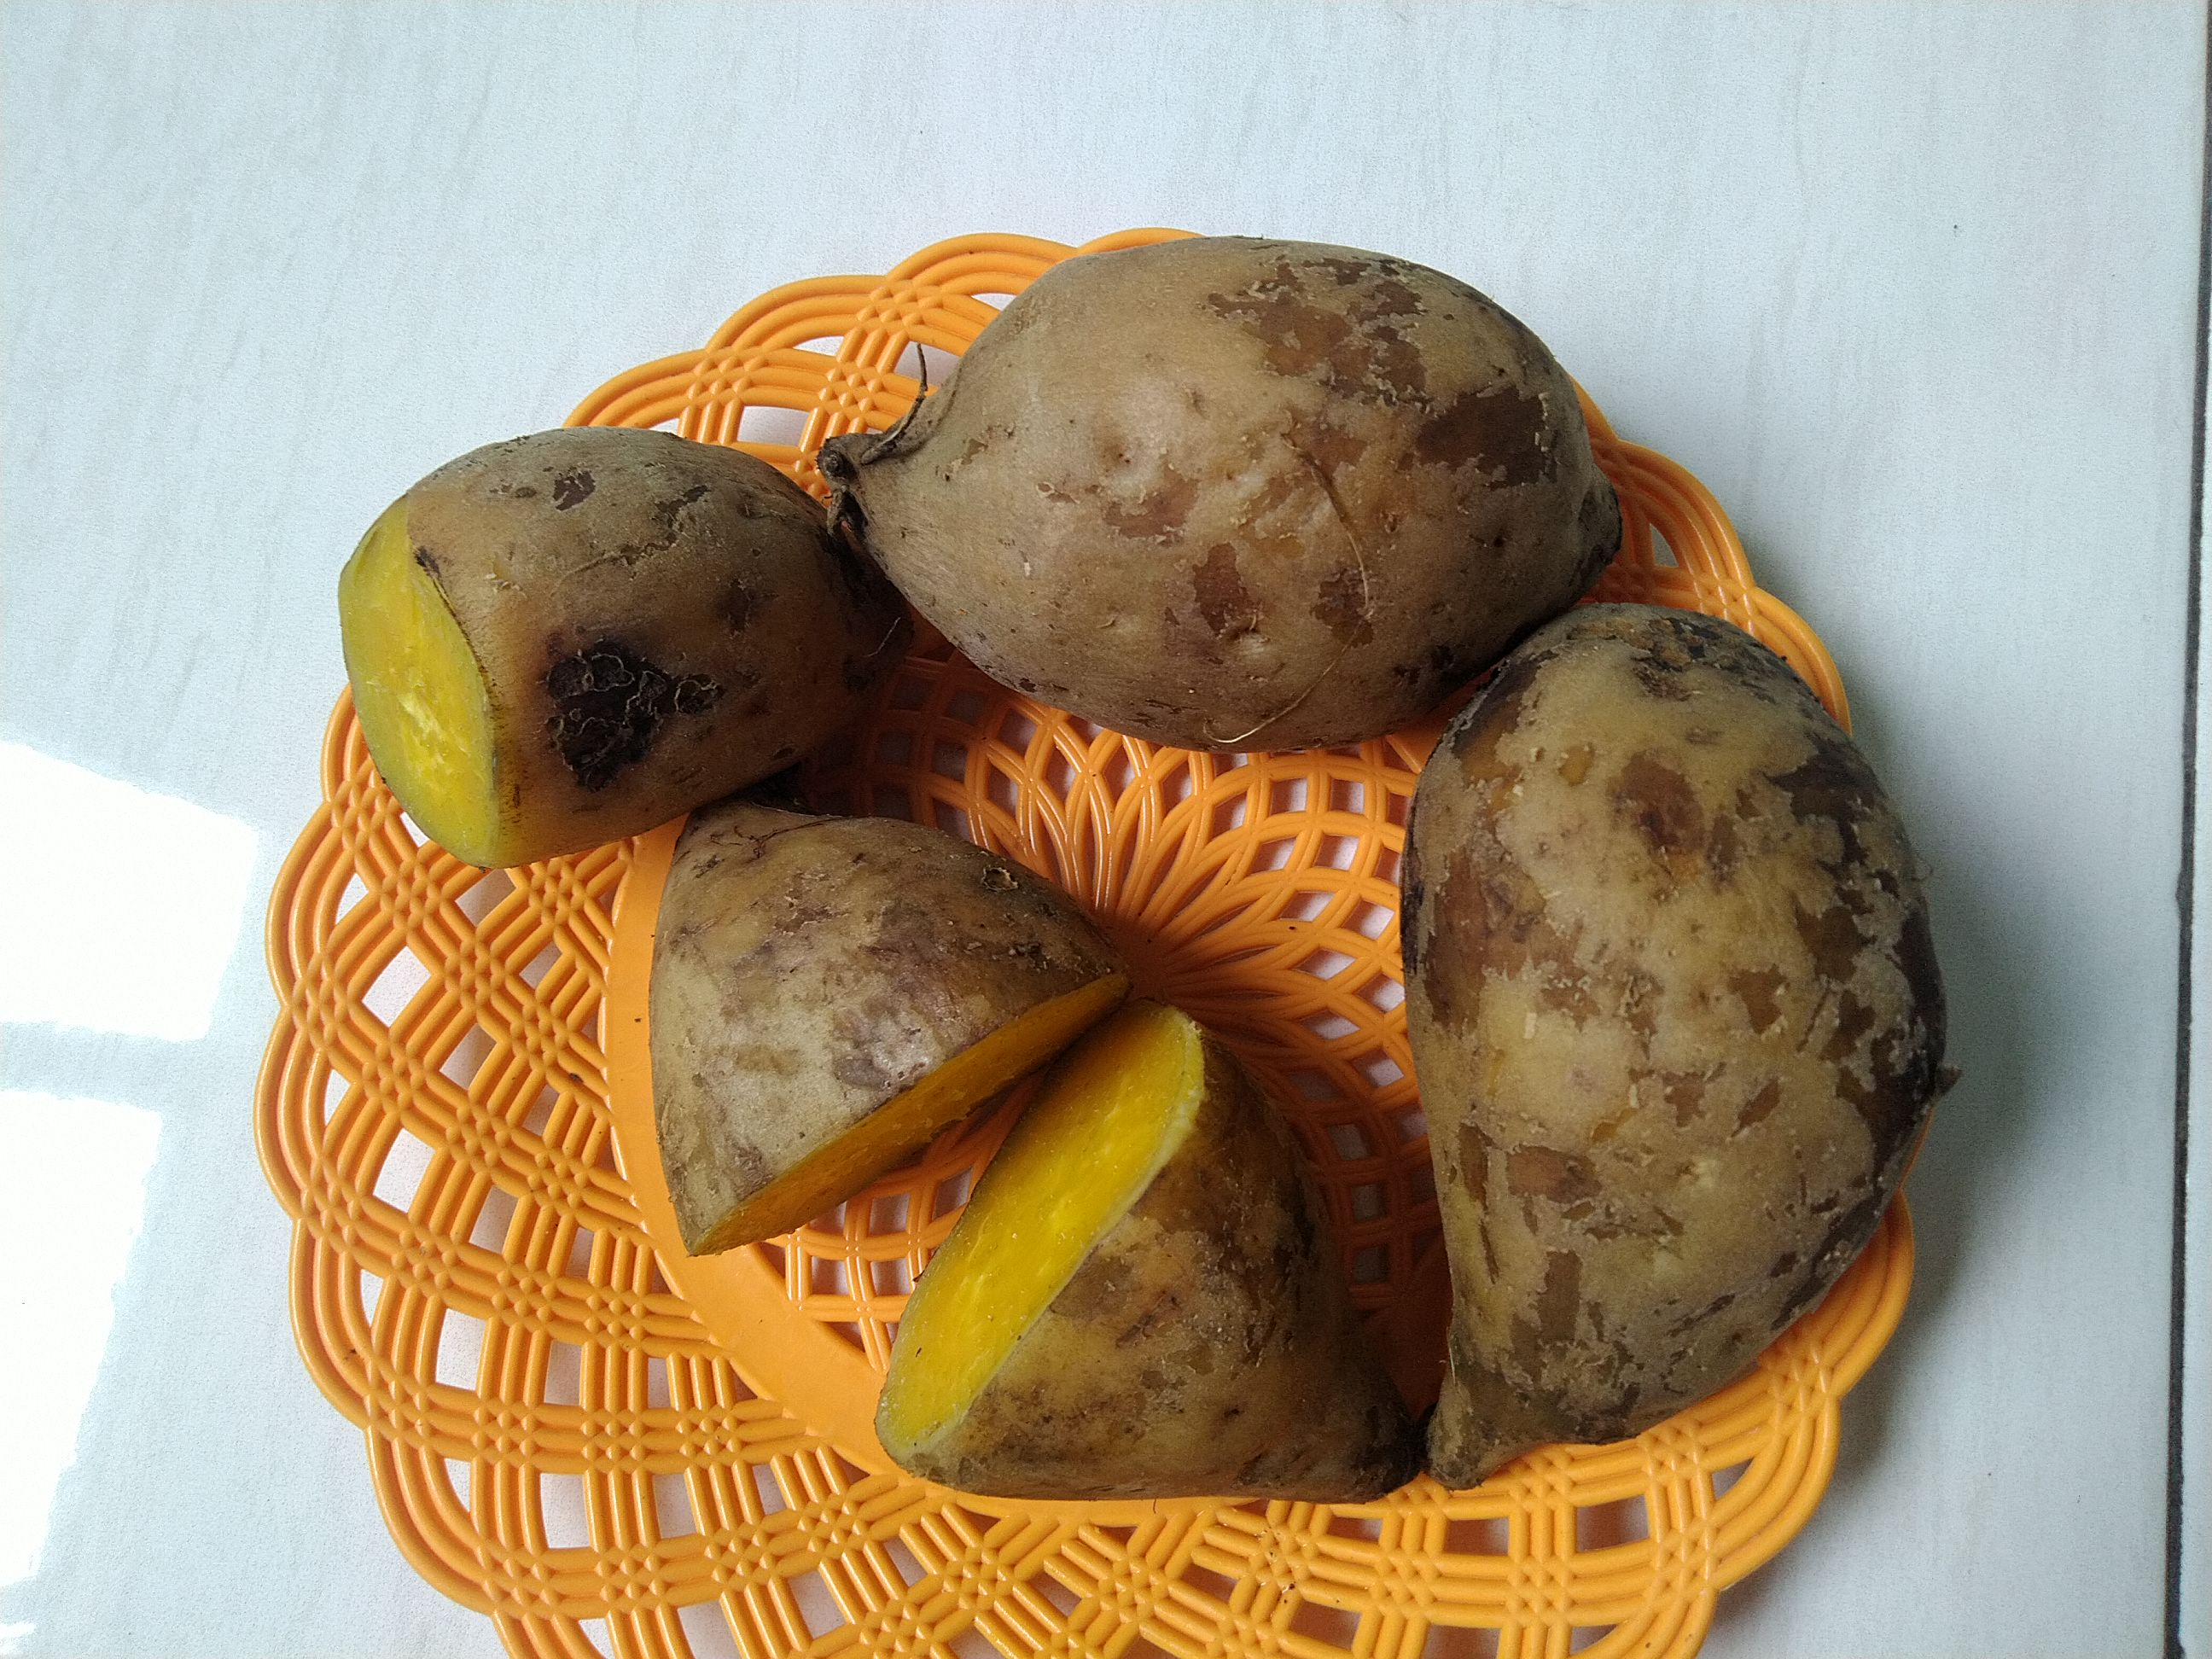ubi kuning: (1385, 605, 1963, 1485), (803, 216, 1651, 755), (864, 1002, 1468, 1500), (303, 410, 927, 871), (627, 798, 1129, 1276)
